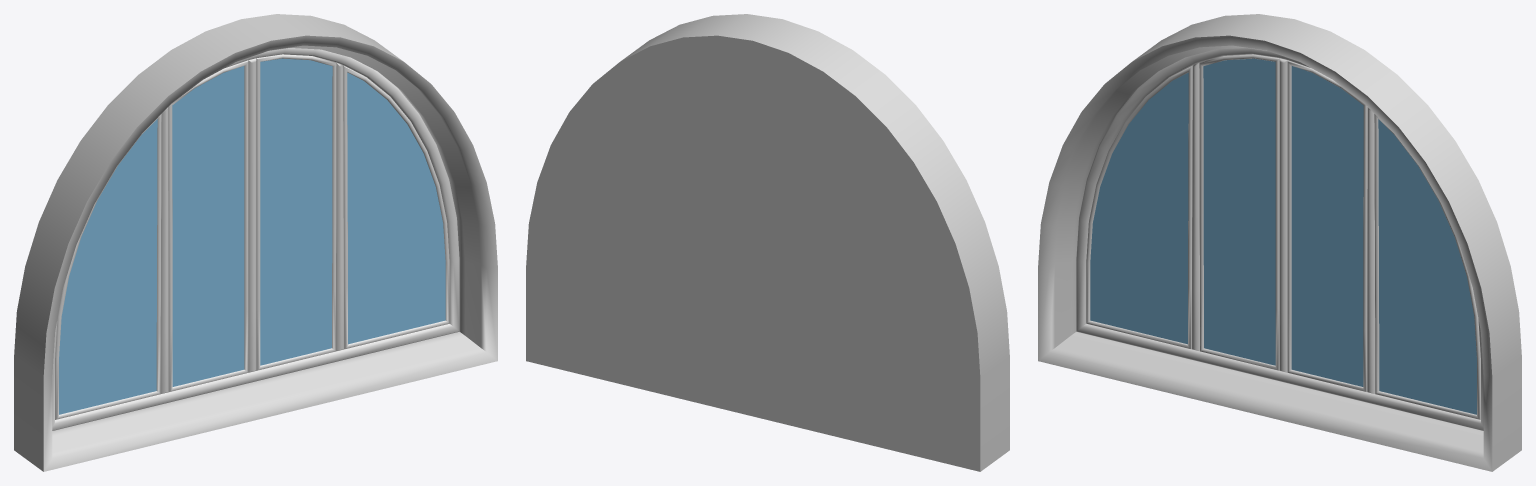
File: SP_House09_Window03.fbx
The picture shows the model from 3 angles, left to right: view 1: azimuth 30°, elevation 25°; view 2: azimuth 150°, elevation 25°; view 3: azimuth 330°, elevation 25°; orthographic projection.
Parts seen in each view (by area): view 1: SP_House09_Window03; view 2: SP_House09_Window03; view 3: SP_House09_Window03.
Part boxes in pixels (x1,y1,x2,y2): SP_House09_Window03: [14, 14, 497, 471]; SP_House09_Window03: [526, 14, 1009, 471]; SP_House09_Window03: [1038, 14, 1521, 471].
Bounding box in the file's own units: 2.28 × 1.8 × 0.2571.
